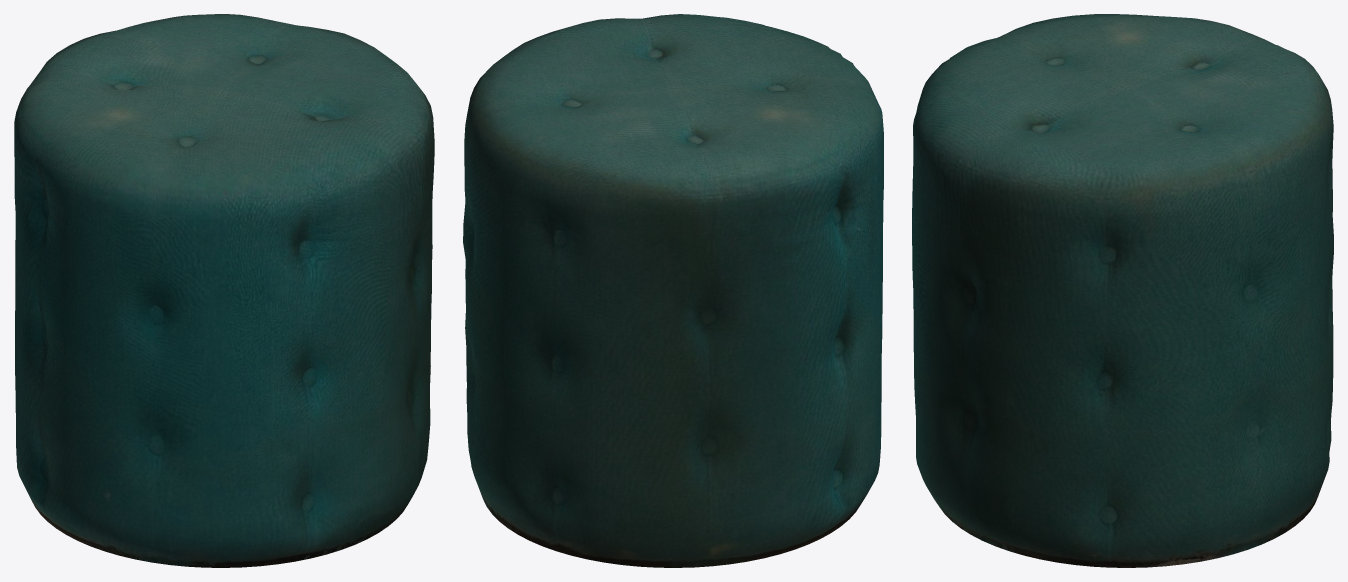
3 views of the same model, side by side, from view 1: azimuth 30°, elevation 25°; view 2: azimuth 150°, elevation 25°; view 3: azimuth 270°, elevation 25° (orthographic).
Parts seen in each view (by area): view 1: puf LOW POLY; view 2: puf LOW POLY; view 3: puf LOW POLY.
Part boxes in pixels (x1,y1,x2,y2): puf LOW POLY: (14, 14, 434, 567); puf LOW POLY: (463, 14, 883, 567); puf LOW POLY: (912, 14, 1333, 567).
Bounding box in the file's own units: 42.8 × 44.94 × 42.95.
1 material, 1 textured.
